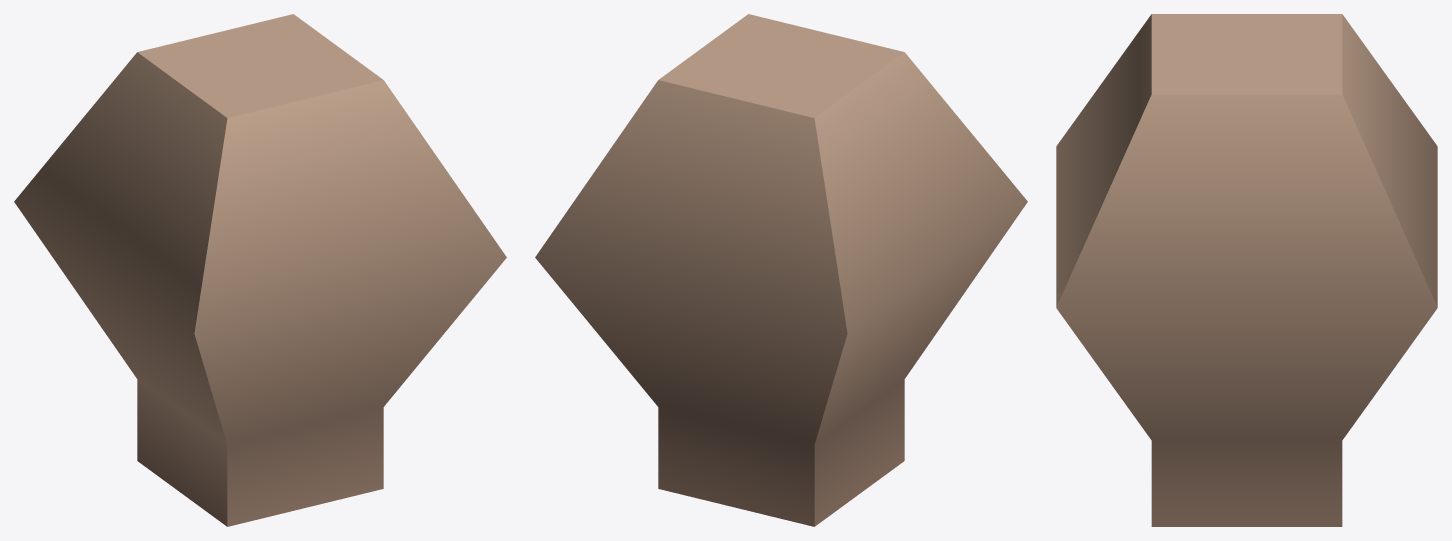
File: handles-knob-classic.glb
The picture shows the model from 3 angles, left to right: view 1: azimuth 30°, elevation 25°; view 2: azimuth 150°, elevation 25°; view 3: azimuth 270°, elevation 25°; orthographic projection. The views are drawn at different scales.
Parts seen in each view (by area): view 1: handles-knob-classic; view 2: handles-knob-classic; view 3: handles-knob-classic.
Part boxes in pixels (left/top/right/bottom): handles-knob-classic: left=14, top=14, right=506, bottom=526; handles-knob-classic: left=535, top=14, right=1027, bottom=526; handles-knob-classic: left=1056, top=14, right=1437, bottom=526.
Bounding box in the file's own units: 0.0426 × 0.0532 × 0.0426.
